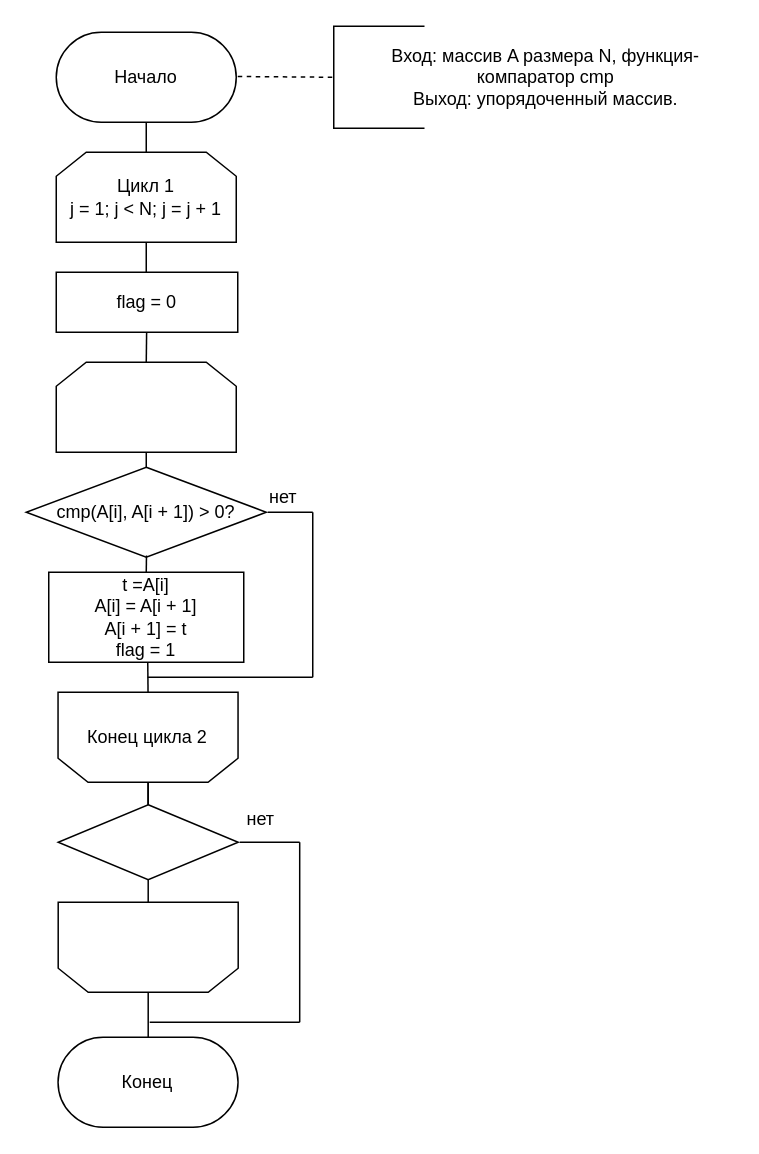
This 759x1154 diagram has some shape labels left out. The box of each missing label's shape, as (x1, y1, x2, y2) in pixels:
flag = 0?: (57, 803, 238, 880)
Конец цикла 1: (57, 901, 238, 992)
Цикл 2 i = 0; i < N - j; i = i+1: (55, 361, 236, 452)
